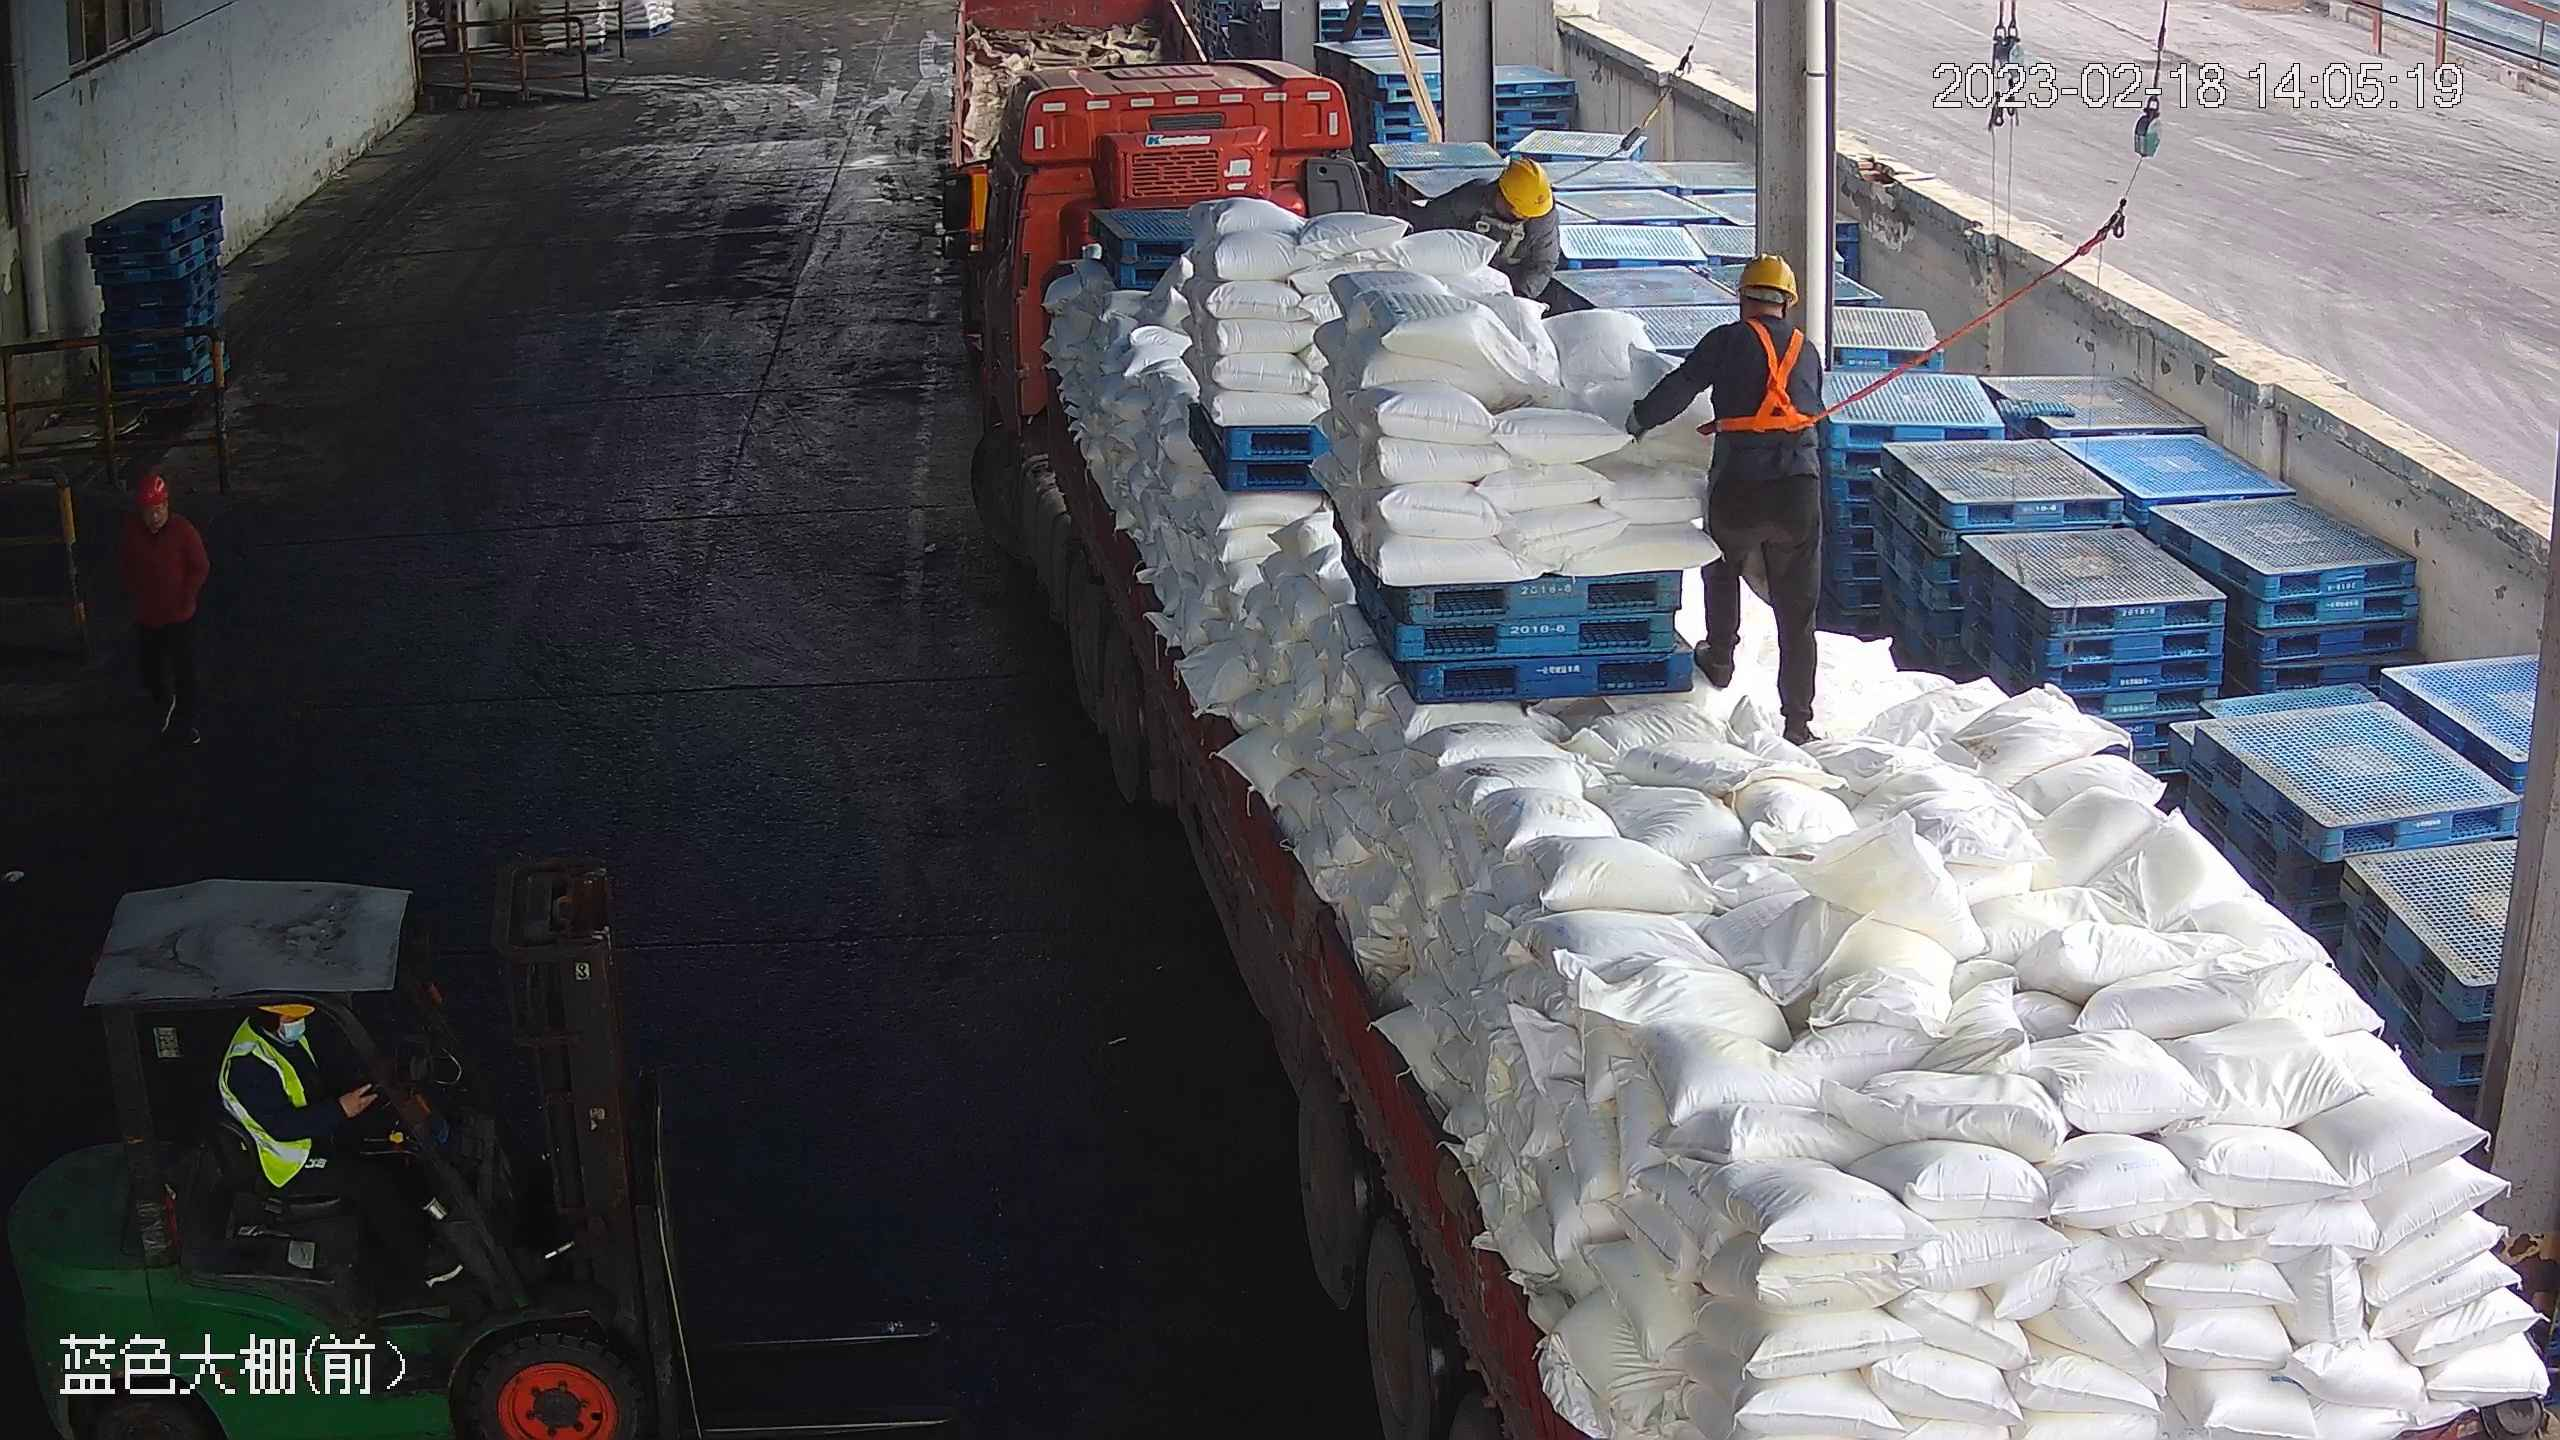belt: (1711, 314, 1823, 437), (1472, 181, 1540, 251)
head: (116, 468, 210, 743), (1694, 251, 1832, 377), (1443, 155, 1558, 239), (118, 472, 203, 555)
helmet: (1496, 155, 1553, 218), (1732, 250, 1799, 302), (135, 470, 172, 502)
people: (1629, 247, 1832, 748), (212, 992, 443, 1284), (116, 471, 216, 745)
truck: (945, 40, 2549, 1440)
